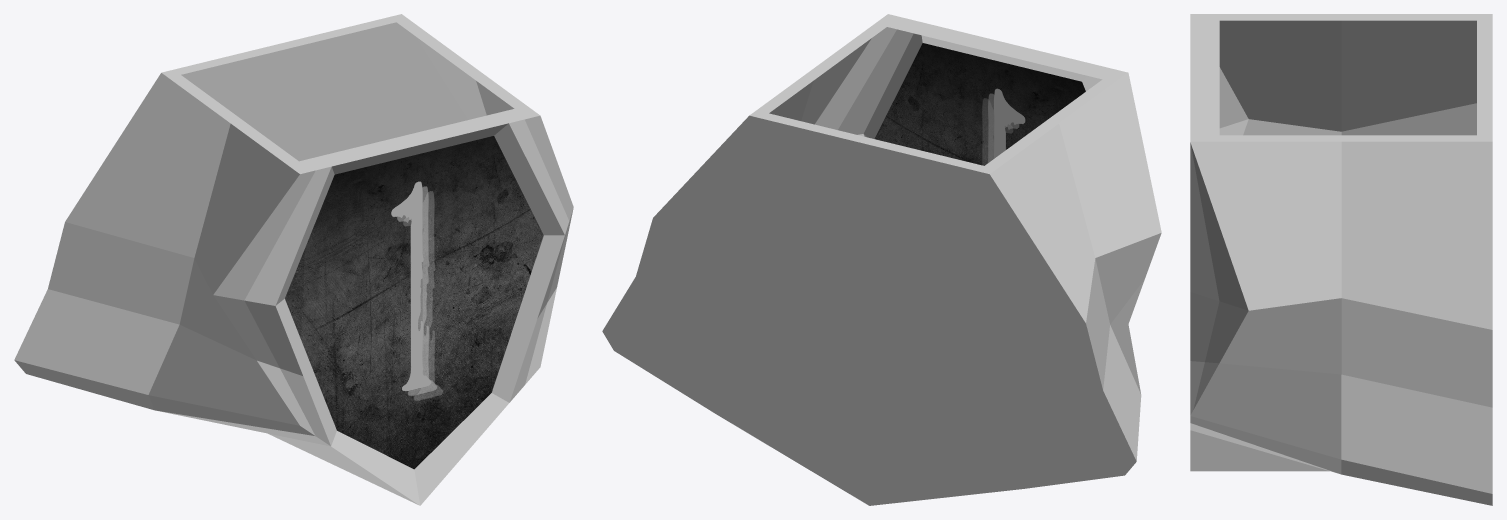
File: Chakker_Start.fbx
3 renders of one model, left to right at view 1: azimuth 30°, elevation 25°; view 2: azimuth 150°, elevation 25°; view 3: azimuth 270°, elevation 25°, orthographic. The views are drawn at different scales.
Visible parts, largest first — view 1: 立方体, 立方体.001; view 2: 立方体, 立方体.001; view 3: 立方体.
Part boxes in pixels (<box>): 立方体: <box>14,14,573,505</box>; 立方体.001: <box>285,136,543,469</box>; 立方体: <box>602,14,1161,505</box>; 立方体.001: <box>874,43,1085,165</box>; 立方体: <box>1190,14,1492,505</box>.
Bounding box in the file's own units: 4.45 × 2.87 × 2.
Materials: 1 (1 with a texture image).
